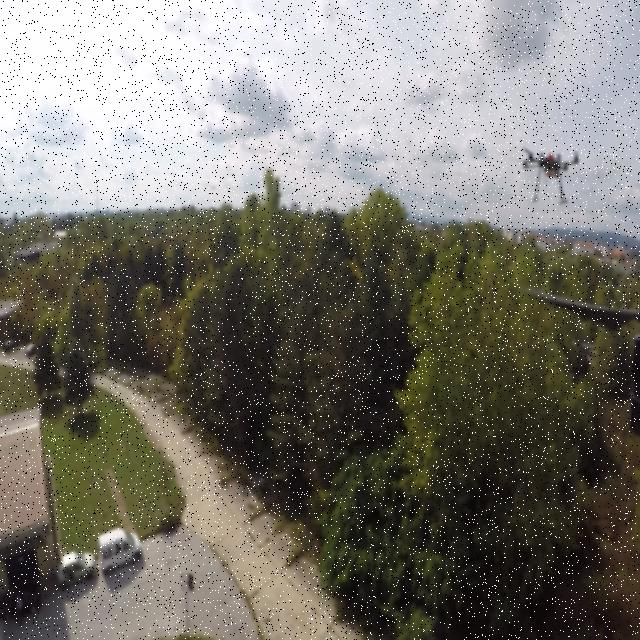UAV: (503, 136, 587, 210)
